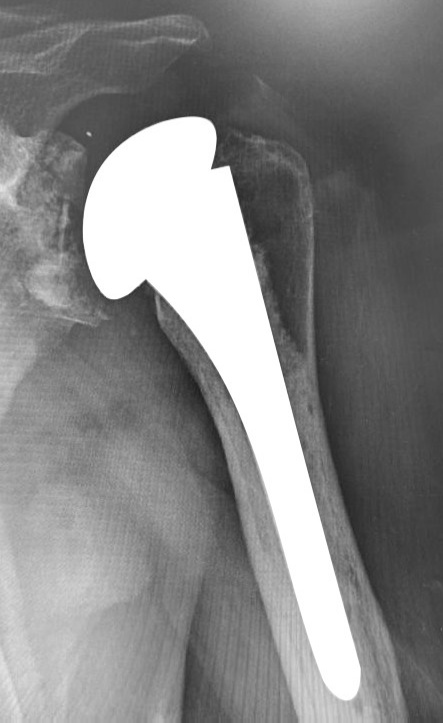Shoulder - Anotomyhead - Stryker: (70, 105, 254, 329)
Shoulder - Anotomytail - Stryker: (137, 150, 306, 407)
